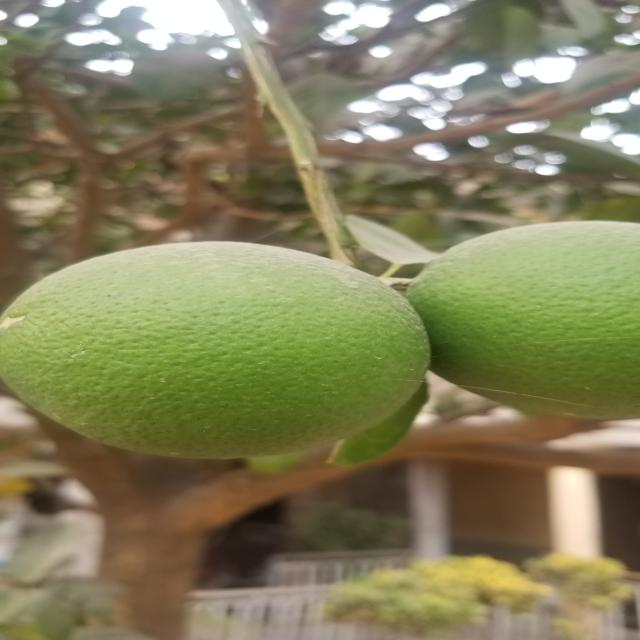Unripe: (0, 243, 438, 484), (418, 216, 637, 419)
